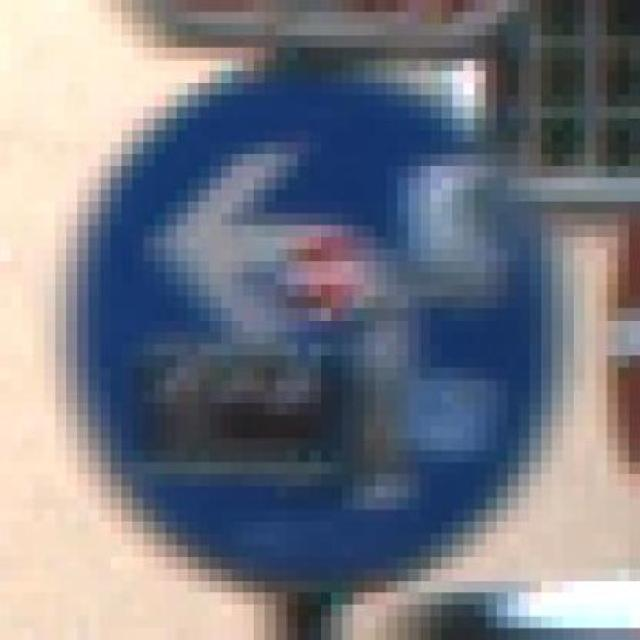Turn left ahead: (55, 59, 574, 593)
